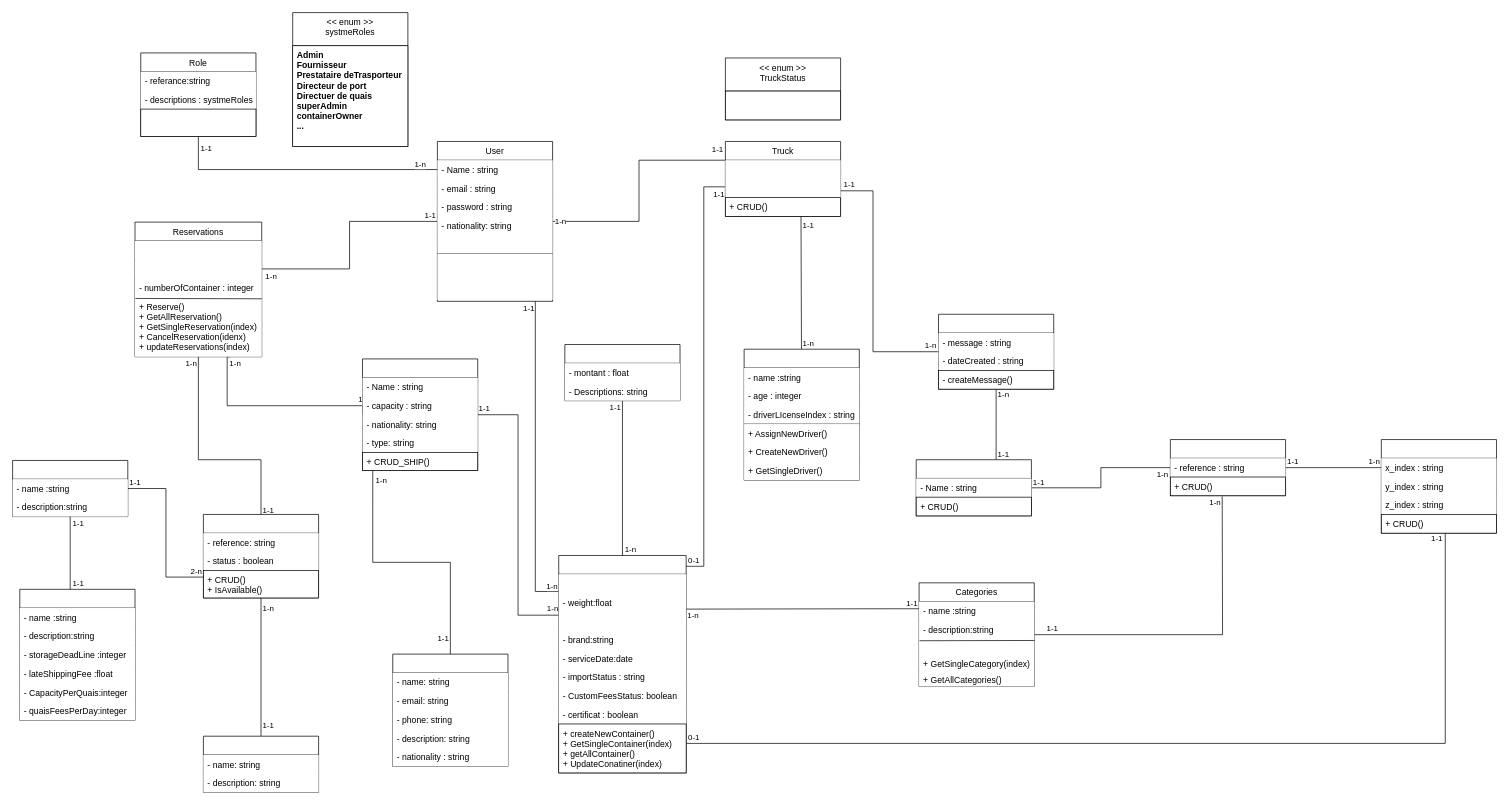
This 1509x807 diagram has some shape labels left out. Here are the shapes that lost their labels. From the top down, the box of each, then its label:
(140, 108, 256, 136): + assigneRole() + createNewRole()
(725, 90, 841, 120): Intern Extern
(725, 160, 840, 179): - matricule : string
(725, 179, 840, 197): - status: TruckStatus
(135, 240, 261, 259): - referance : string
(437, 235, 552, 253): - orginasation: string
(135, 259, 261, 278): - dateCheckIn : string
(437, 253, 552, 300): + GetAllUSer() + GetSingleUser(index) + DeleteUSer(index) + UpdateUser(idenx)
(938, 314, 1054, 389): CommunicationsChannel
(564, 344, 680, 401): CustomFees
(362, 358, 478, 471): Ships
(743, 348, 859, 480): Drivers
(915, 459, 1031, 516): StorageArea
(1170, 439, 1286, 496): block
(1381, 439, 1497, 533): block_part
(12, 460, 128, 517): Port
(203, 514, 319, 598): Quay
(558, 574, 686, 593): - reference:string
(558, 611, 686, 630): - dimensions:string
(19, 589, 135, 720): Systeme
(558, 555, 686, 773): Containers
(919, 639, 1034, 654): + AddNewCategory()
(392, 653, 508, 766): ShipOwner
(203, 735, 319, 792): Type
